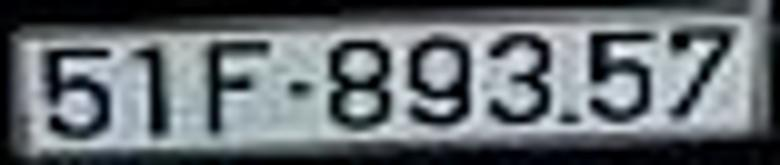-: (278, 78, 318, 102)
.: (559, 98, 582, 131)
1: (144, 43, 174, 139)
3: (485, 29, 557, 128)
5: (41, 47, 124, 144), (586, 29, 658, 125)
7: (665, 26, 744, 124)
8: (329, 35, 395, 140)
9: (406, 31, 472, 133)
F: (201, 34, 270, 132)
